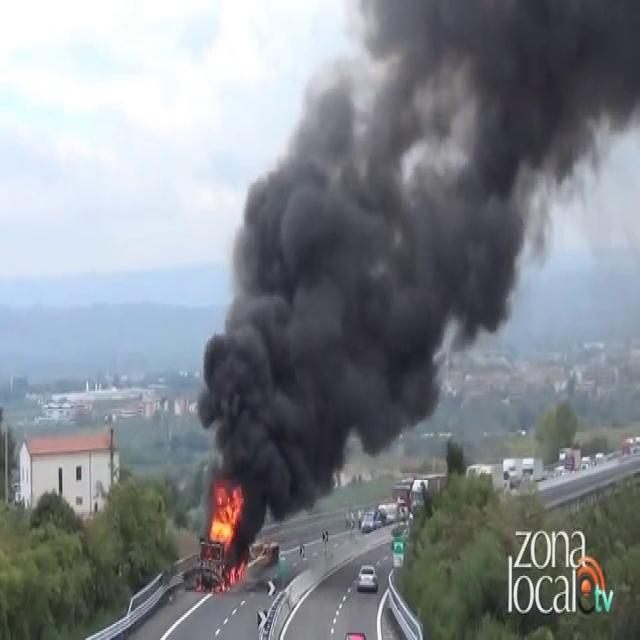Fire: (206, 480, 244, 562)
Smoke: (192, 0, 640, 516)
